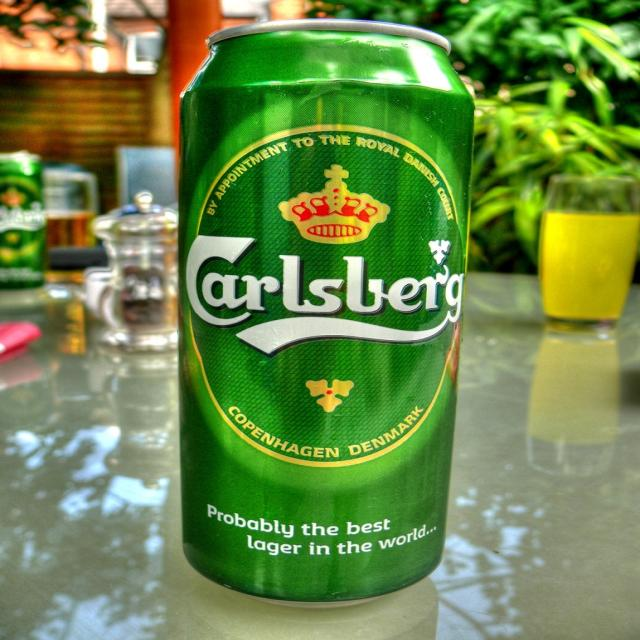carlsberg: (184, 125, 470, 475)
